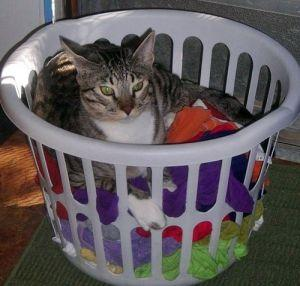bengal: (52, 28, 172, 123)
